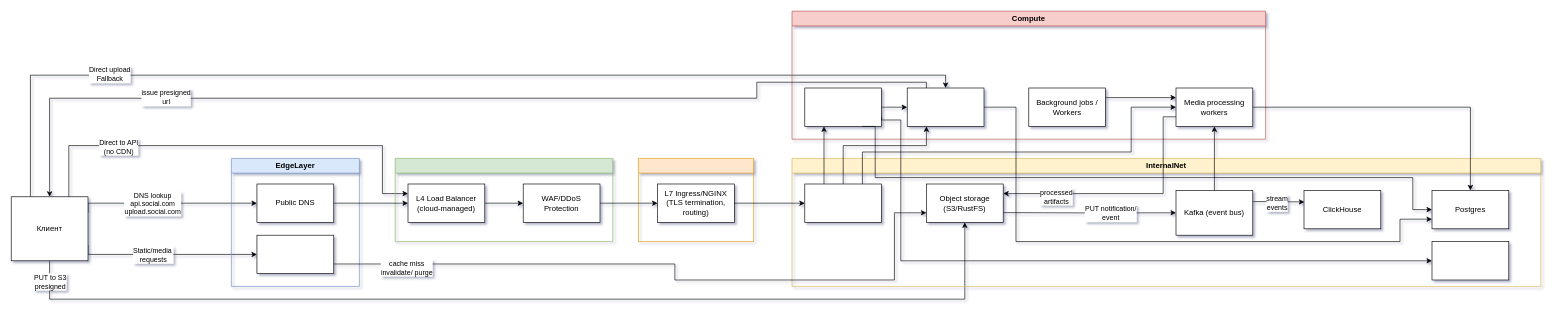
Image size: 1556x319. Some labels were removed from this diagram. Each missing label, with the box of its shape:
Application backend (Go services): (804, 87, 882, 126)
CDN edge: (256, 235, 334, 274)
IngressLayer: (638, 158, 754, 242)
k8s: (804, 183, 882, 222)
Perimeter: (395, 158, 613, 242)
Redis Cluster (cache, counters): (1431, 241, 1509, 280)
Upload service (presign): (907, 87, 984, 126)
